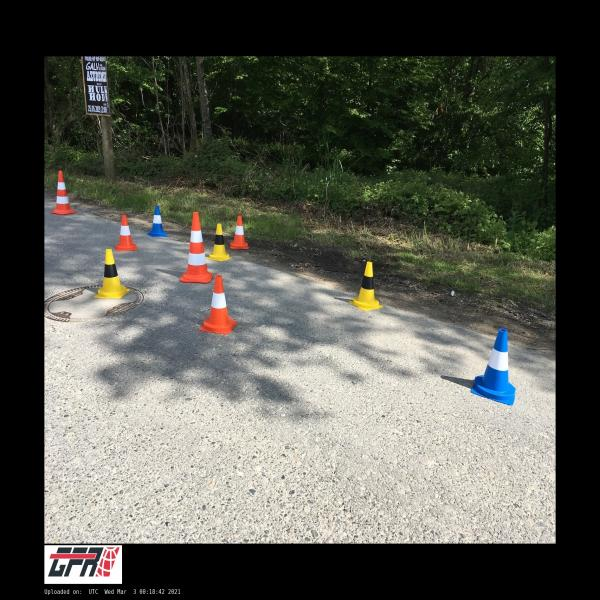blue_cone: (471, 328, 516, 406), (147, 206, 169, 237)
large_orange_cone: (180, 212, 214, 284), (51, 170, 76, 215)
orange_cone: (199, 275, 238, 334), (114, 215, 138, 250), (230, 216, 249, 249)
yellow_cone: (94, 249, 130, 298), (349, 261, 383, 311), (205, 223, 232, 261)
